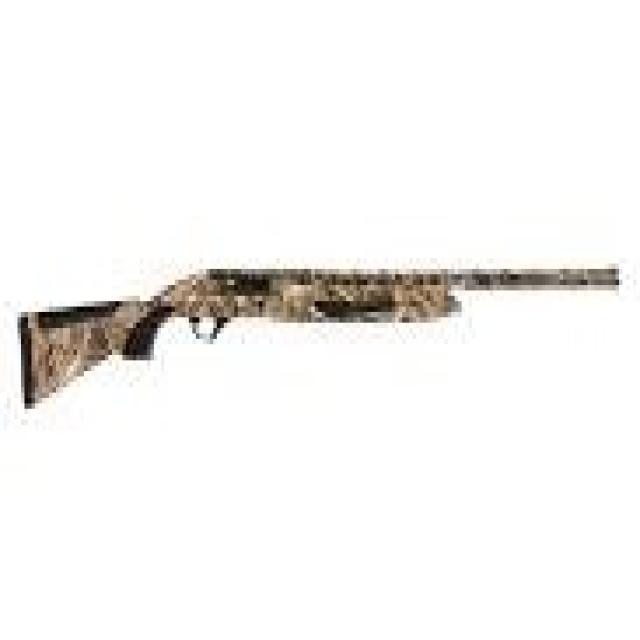rifle: (15, 247, 625, 428)
